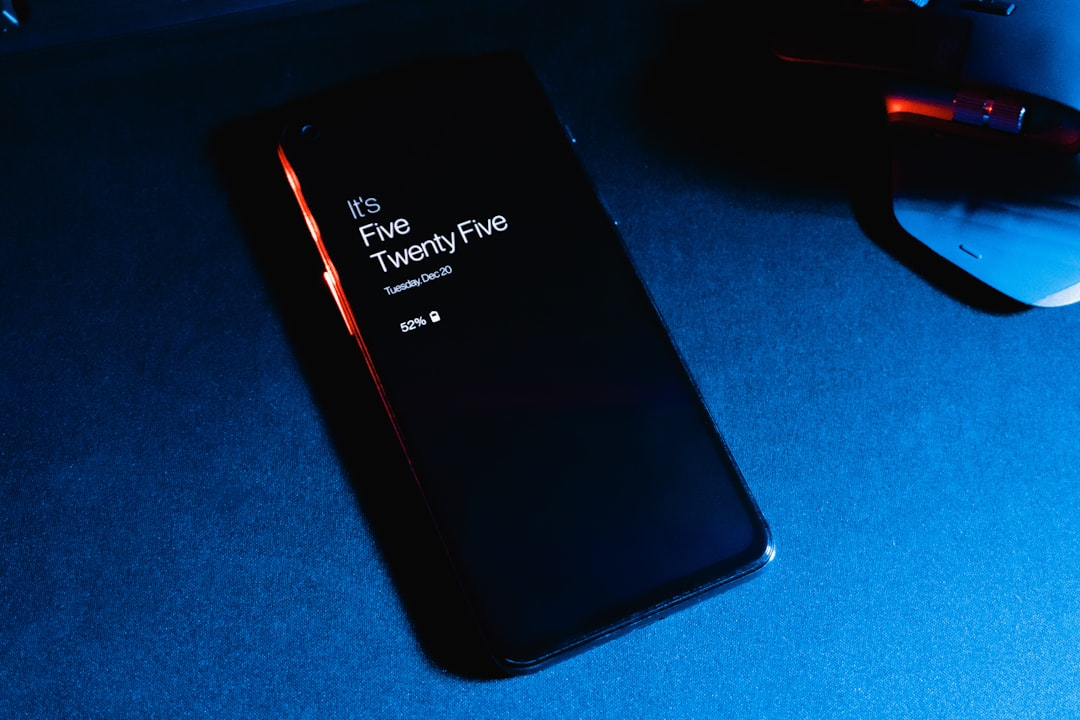phone: (258, 47, 776, 680)
